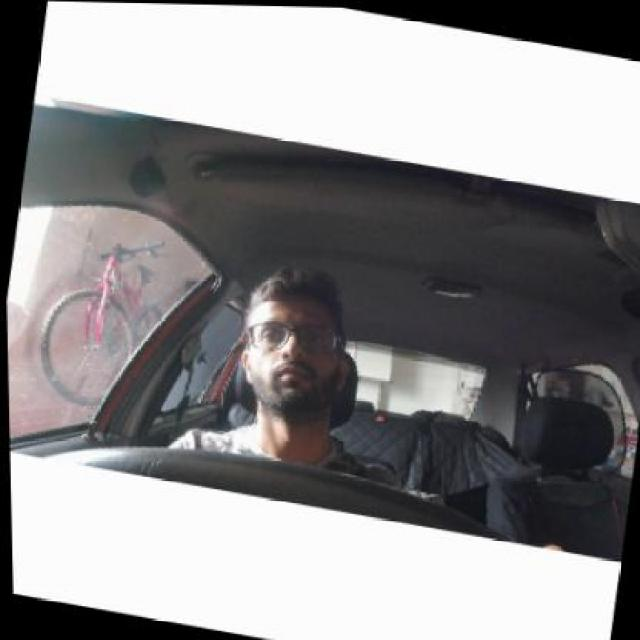person: (226, 260, 369, 434)
